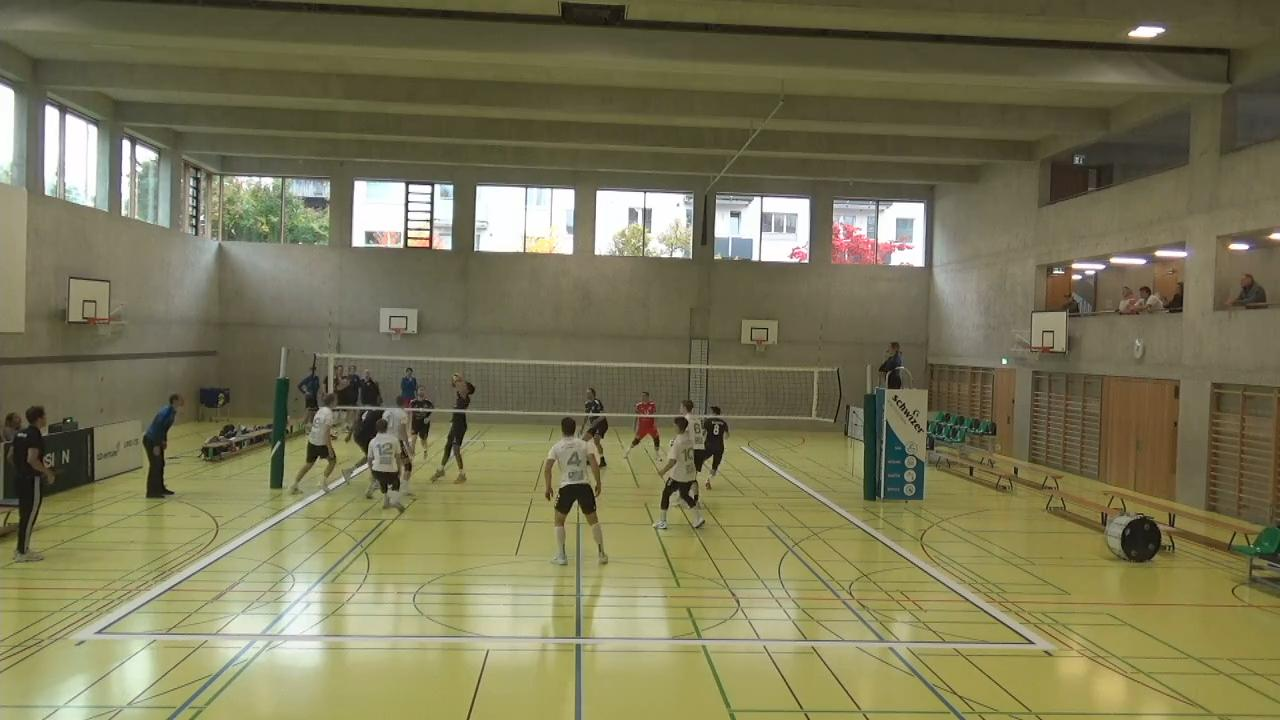alzata: (433, 376, 473, 484)
